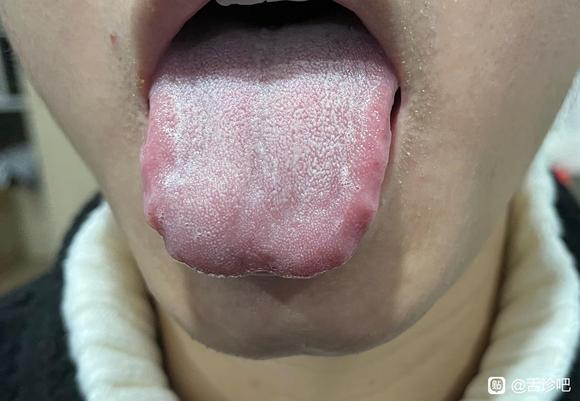baitaishe: (139, 25, 399, 277)
chihenshe: (340, 86, 398, 265), (140, 127, 179, 263)
xinfeiao: (226, 256, 292, 277)
